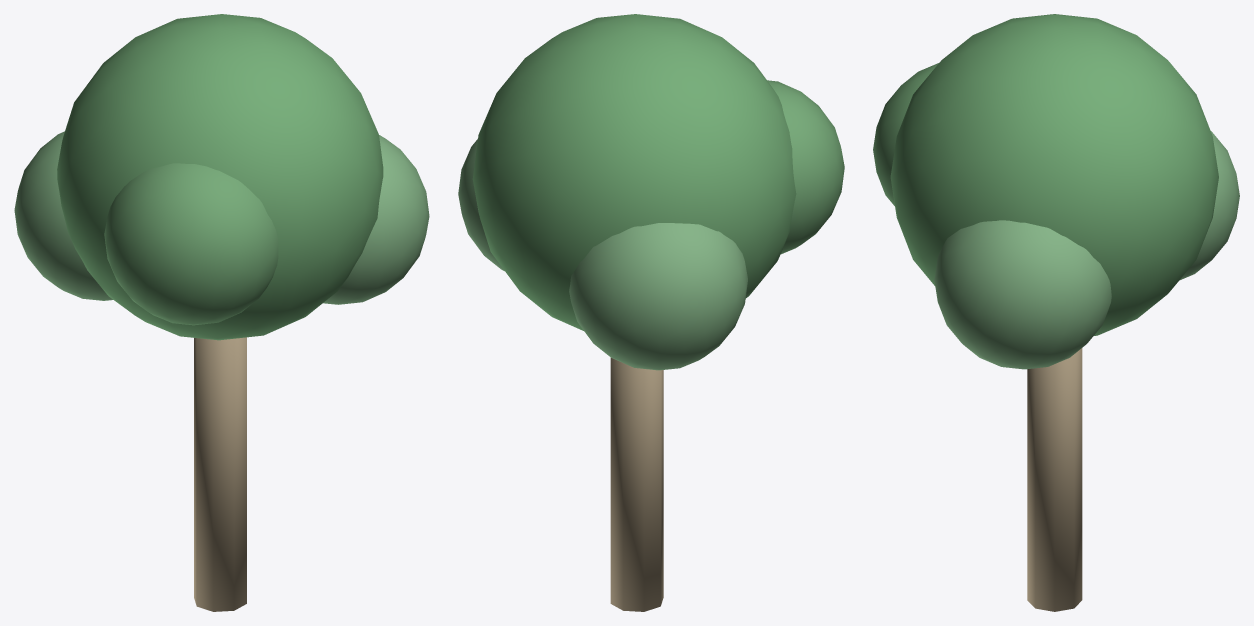
File: plant_tree_oak_summer.glb
The picture shows the model from 3 angles, left to right: view 1: azimuth 30°, elevation 25°; view 2: azimuth 150°, elevation 25°; view 3: azimuth 270°, elevation 25°; orthographic projection.
Visible parts, largest first — view 1: crown_main, crown_sub1, trunk, crown_sub0, crown_sub2; view 2: crown_main, crown_sub2, trunk, crown_sub1, crown_sub0; view 3: crown_main, crown_sub0, trunk, crown_sub2, crown_sub1.
Boxes of the visible parts, left/top/right/bottom form: crown_main: left=57, top=14, right=383, bottom=340; crown_sub1: left=104, top=163, right=278, bottom=325; trunk: left=194, top=337, right=246, bottom=611; crown_sub0: left=323, top=135, right=429, bottom=304; crown_sub2: left=14, top=131, right=112, bottom=300; crown_main: left=472, top=14, right=796, bottom=330; crown_sub2: left=569, top=223, right=747, bottom=370; trunk: left=610, top=358, right=663, bottom=611; crown_sub1: left=767, top=80, right=844, bottom=254; crown_sub0: left=458, top=139, right=504, bottom=271; crown_main: left=890, top=14, right=1218, bottom=335; crown_sub0: left=934, top=220, right=1111, bottom=369; trunk: left=1027, top=348, right=1082, bottom=611; crown_sub2: left=1179, top=131, right=1239, bottom=280; crown_sub1: left=873, top=63, right=938, bottom=205.
Size of the model in its own units: 0.9786 by 1.61 by 0.9382.
